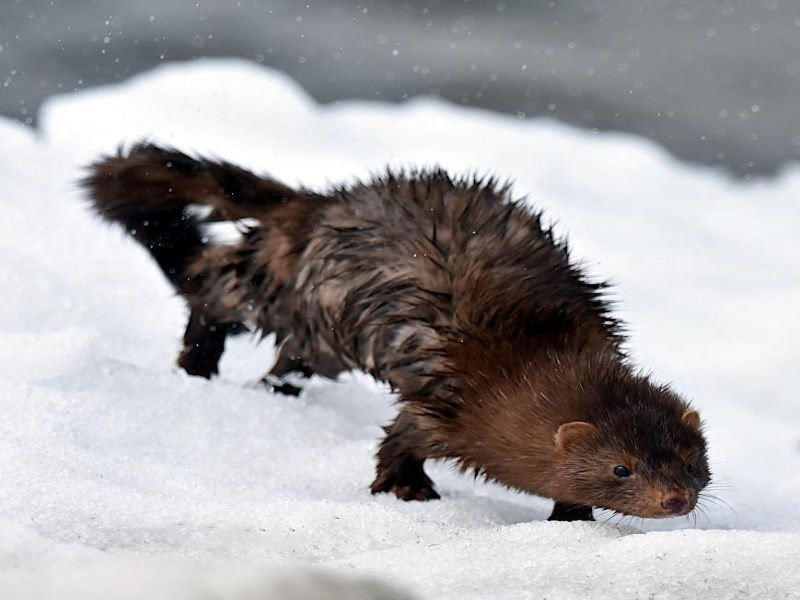minkish: (84, 138, 719, 534)
